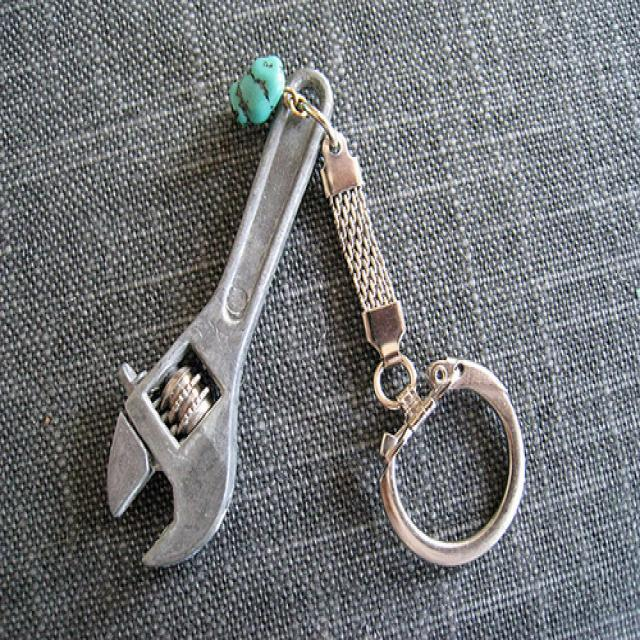screwdriver: (103, 58, 339, 574)
